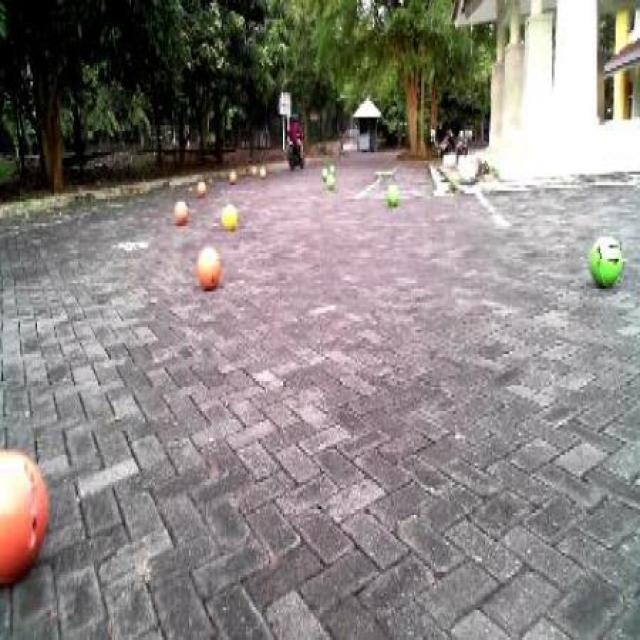buoy: (0, 433, 55, 596), (586, 228, 626, 293), (192, 238, 226, 292), (214, 198, 241, 234), (169, 196, 191, 226), (384, 180, 401, 210)
